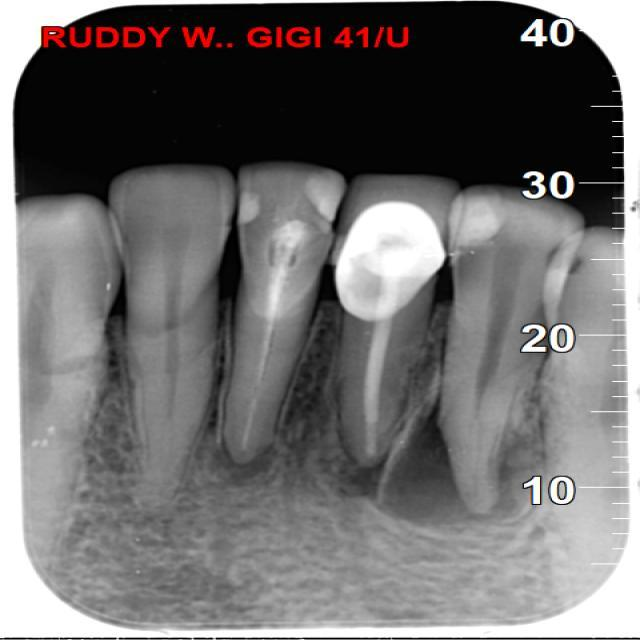individual-tooth-8tto: (445, 184, 586, 512), (103, 163, 234, 507), (230, 158, 352, 465), (341, 178, 463, 468)
